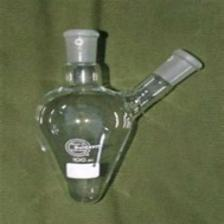Pear shaped flask: (16, 23, 203, 198)
